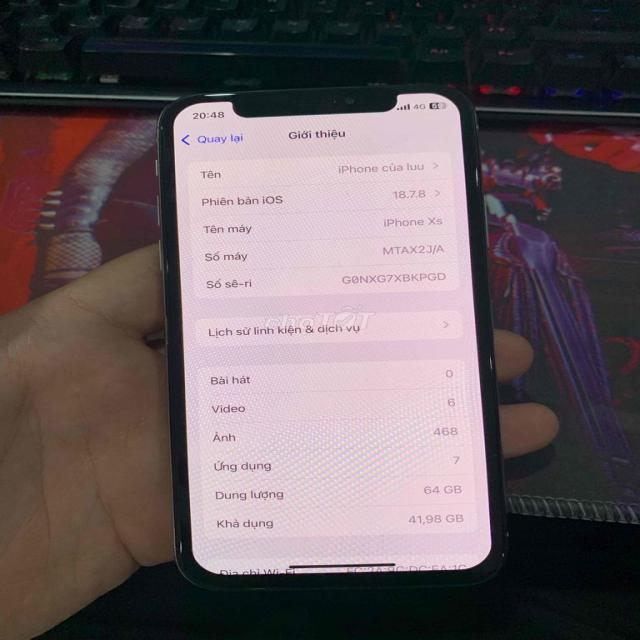gen_x_xs: (153, 76, 518, 602)
scratch: (152, 115, 179, 145), (486, 520, 521, 543), (482, 349, 506, 381), (488, 544, 516, 567)
